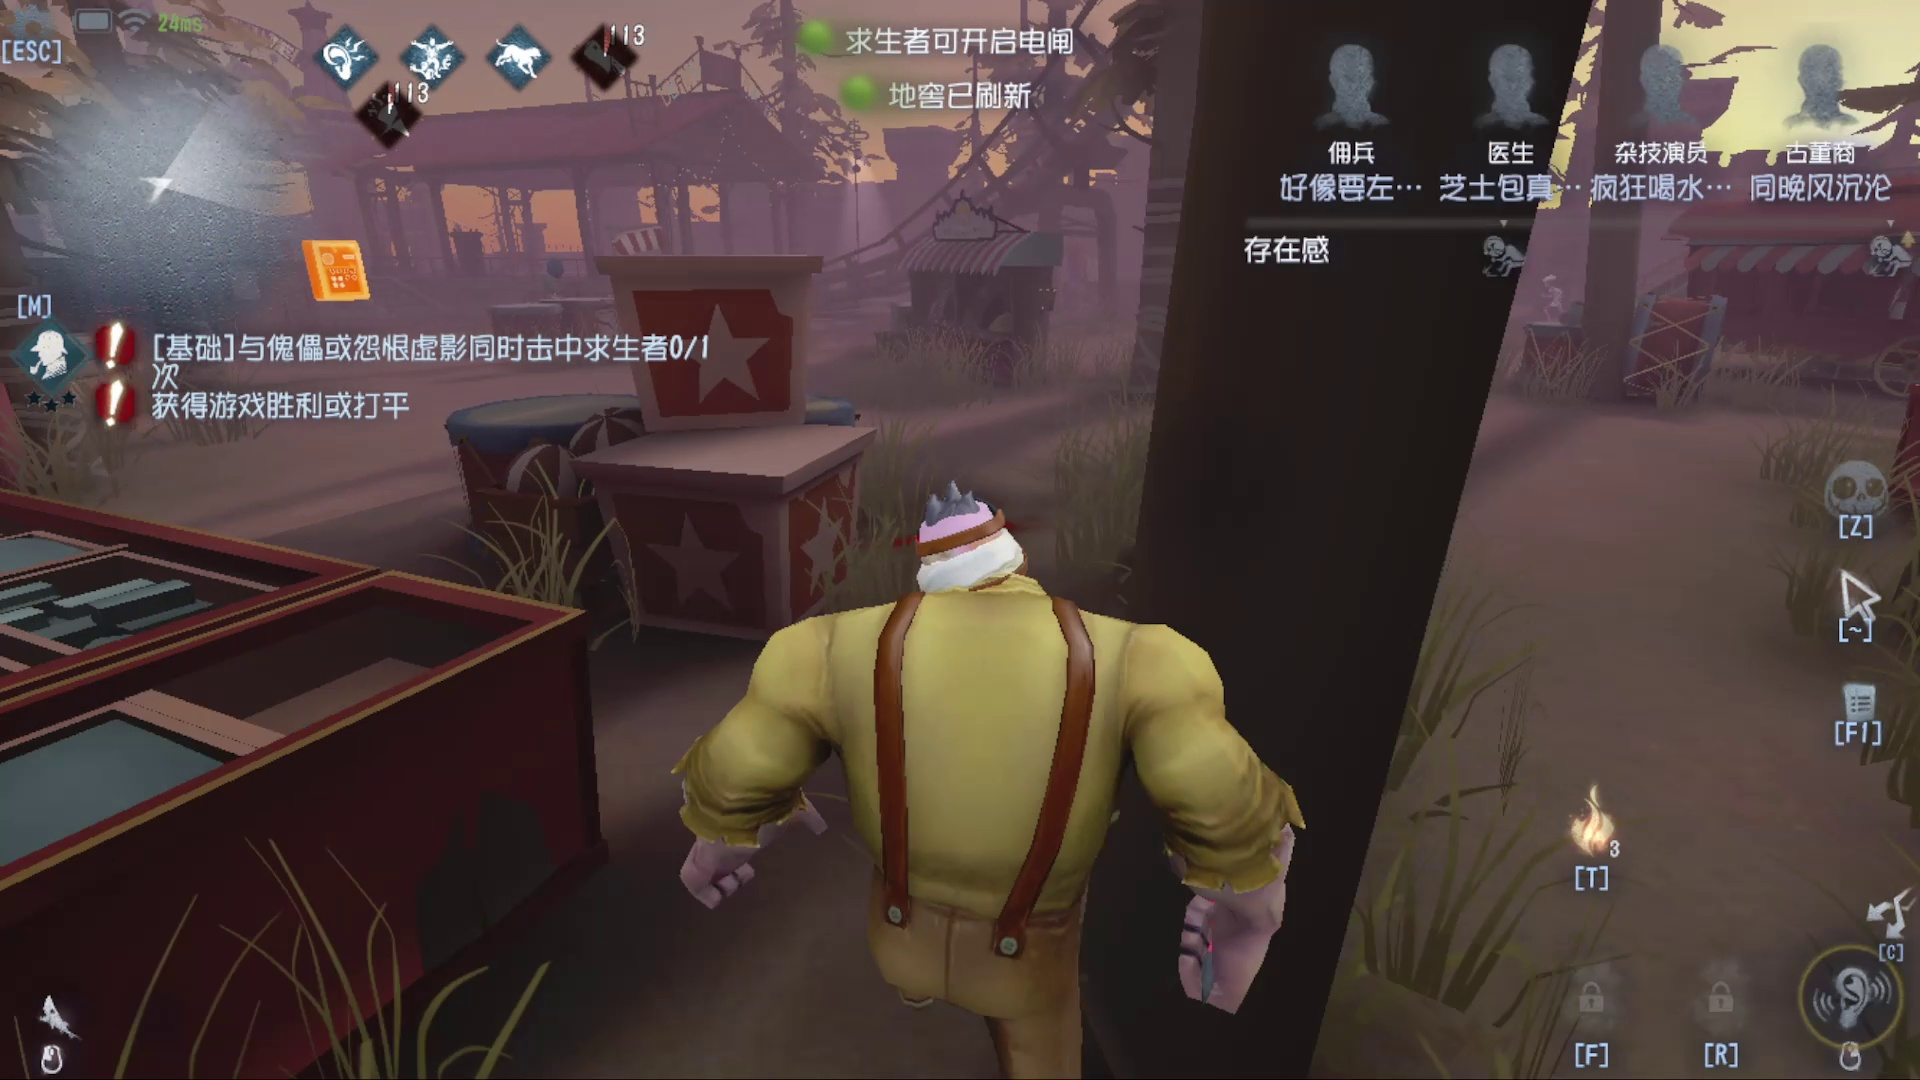求生者: (1538, 269, 1569, 326)
